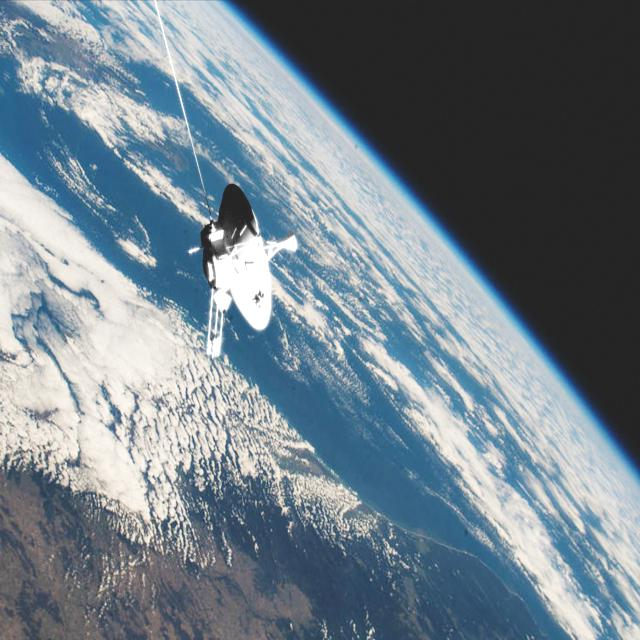satellite: (178, 136, 308, 379)
